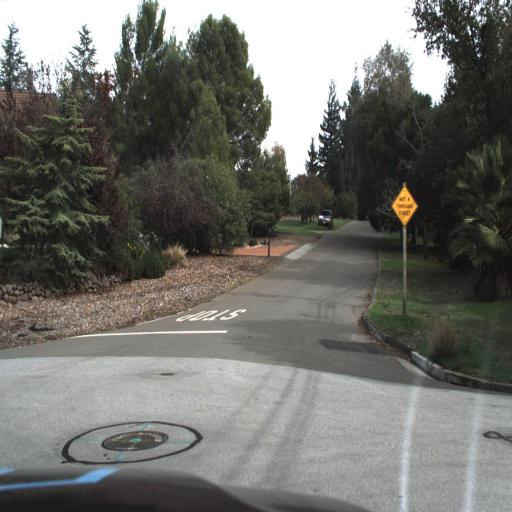car: (314, 203, 337, 233)
